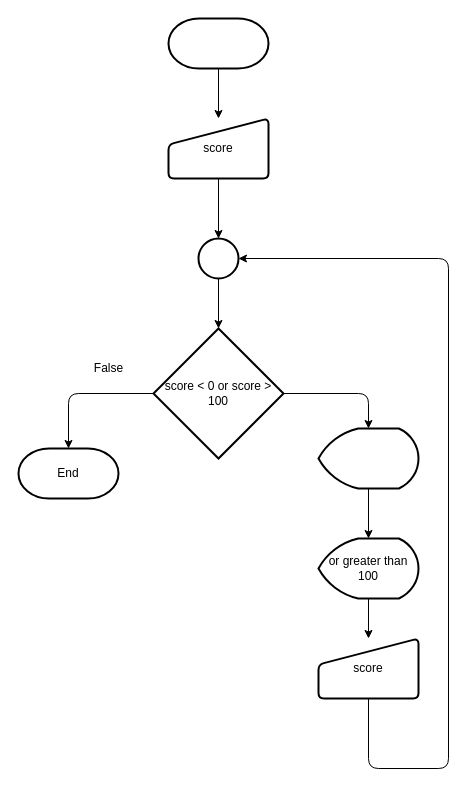
Some shapes in this 474 by 794 pixel diagram are drawn without their labels. Each missing label, with the centre of its shape:
"ERROR: The score cannot be negative" belongs at [368,458].
"Start" belongs at [218,43].
